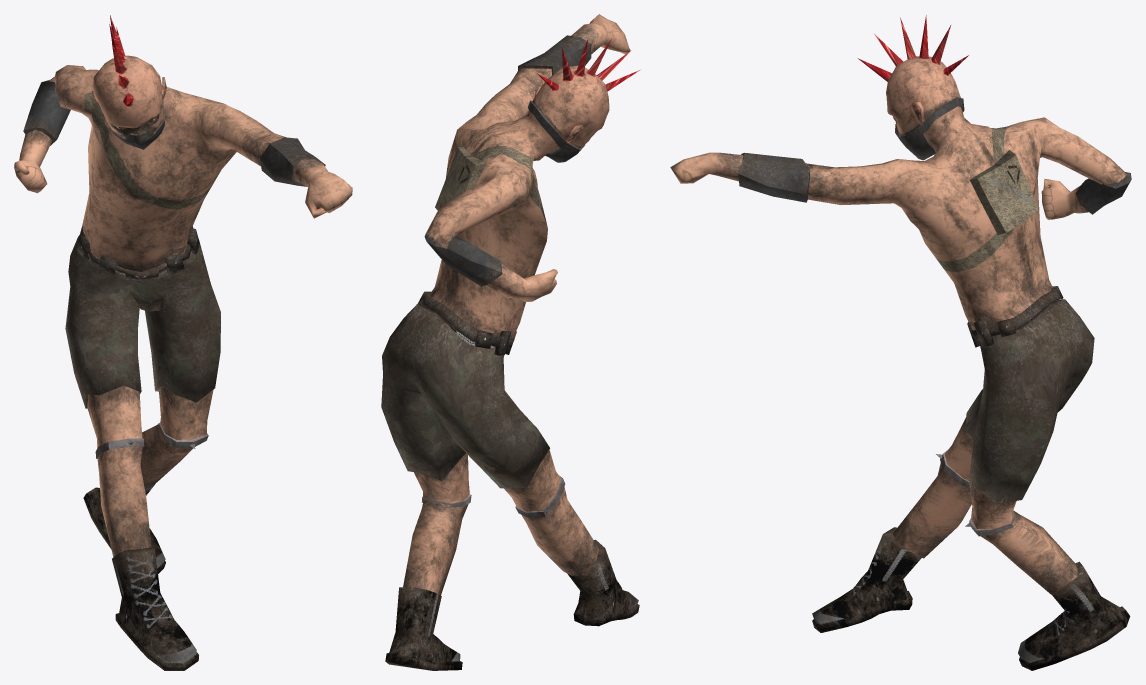
Rendered from Anim_ataque_d3_npc2.0034.obj.
The picture shows the model from 3 angles, left to right: view 1: azimuth 30°, elevation 25°; view 2: azimuth 150°, elevation 25°; view 3: azimuth 270°, elevation 25°; orthographic projection.
Visible parts, largest first — view 1: polySurface1; view 2: polySurface1; view 3: polySurface1.
Part boxes in pixels (x1=…): polySurface1: x1=14, y1=15, x2=352, y2=670; polySurface1: x1=381, y1=14, x2=639, y2=670; polySurface1: x1=670, y1=15, x2=1131, y2=670.
Size of the model in its own units: 2.83 by 9.23 by 6.36.
2 materials, 2 textured.
